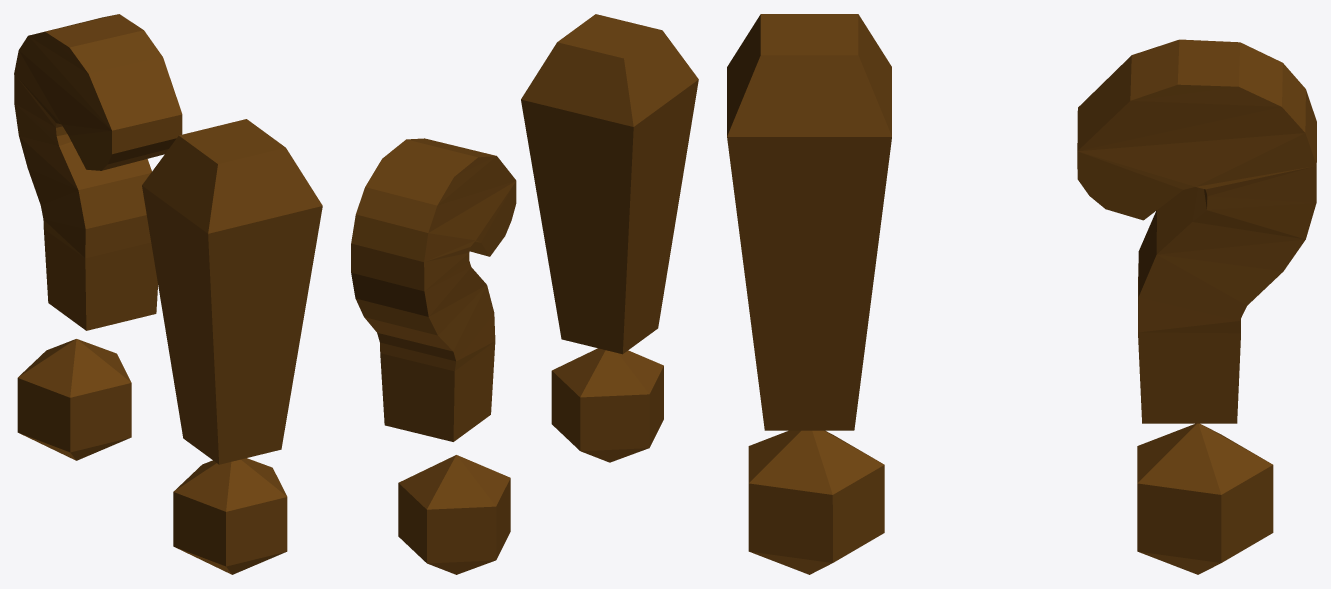
Rendered from quest_marker.fbx.
3 views of the same model, side by side, from view 1: azimuth 30°, elevation 25°; view 2: azimuth 150°, elevation 25°; view 3: azimuth 270°, elevation 25° (orthographic). The views are drawn at different scales.
Parts seen in each view (by area): view 1: quest_0, complete_1; view 2: quest_0, complete_1; view 3: complete_1, quest_0.
Part boxes in pixels (x1,y1,x2,y2): quest_0: [142, 119, 322, 574]; complete_1: [14, 14, 182, 460]; quest_0: [521, 14, 698, 462]; complete_1: [351, 138, 516, 574]; complete_1: [1077, 39, 1316, 574]; quest_0: [727, 14, 891, 574].
Bounding box in the file's own units: 2.66 × 9.21 × 9.11.
